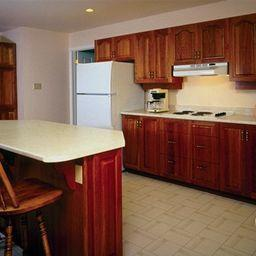Electrodomestico: (78, 64, 115, 124), (165, 106, 224, 127)
